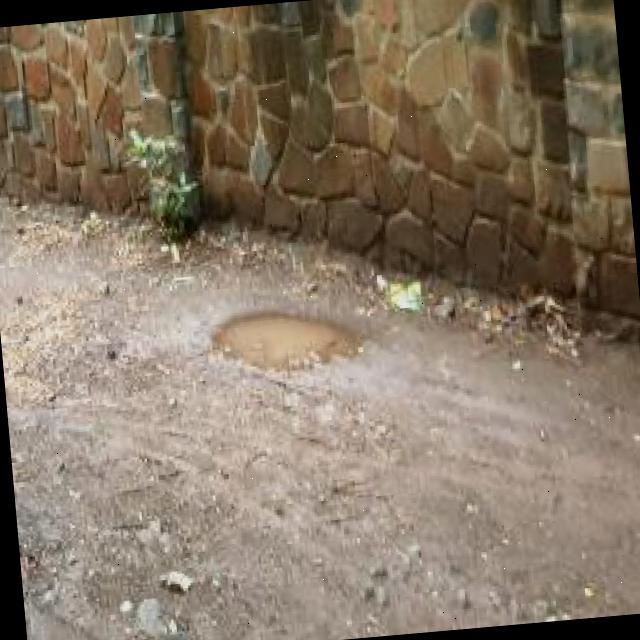waterlogging: (208, 282, 378, 392)
